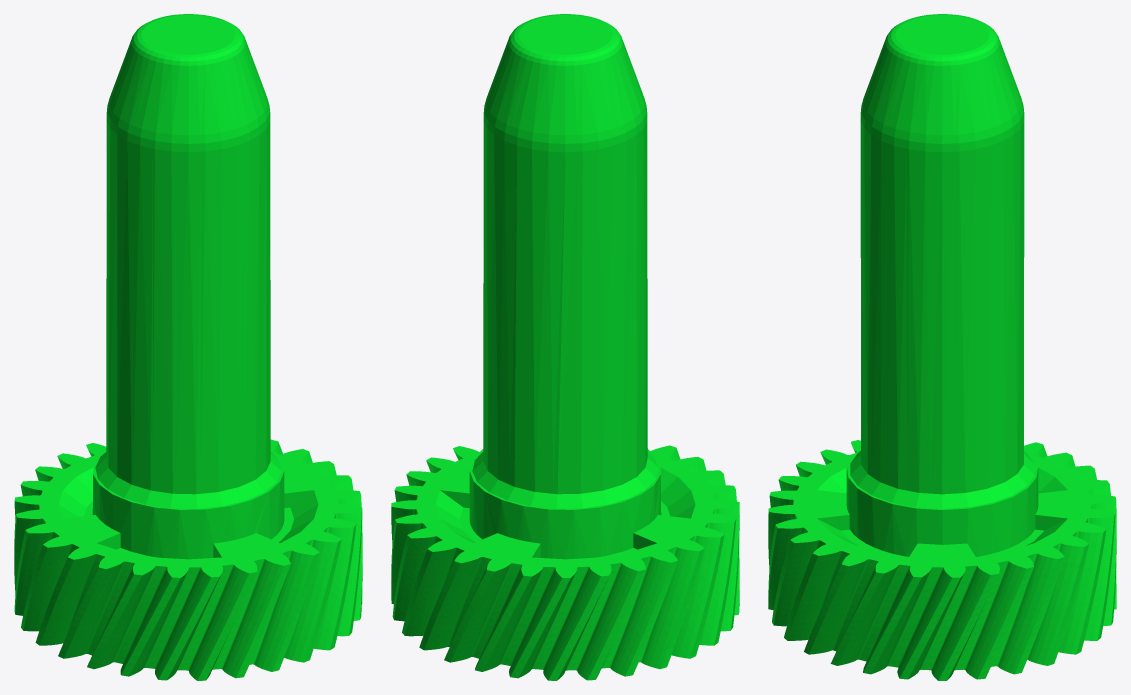
The model's file is largeGear_v5.dae.
The picture shows the model from 3 angles, left to right: view 1: azimuth 30°, elevation 25°; view 2: azimuth 150°, elevation 25°; view 3: azimuth 270°, elevation 25°; orthographic projection.
Parts seen in each view (by area): view 1: largeGear_v5; view 2: largeGear_v5; view 3: largeGear_v5.
Boxes of the visible parts, bbox=[...] form: largeGear_v5: bbox=[14, 14, 362, 680]; largeGear_v5: bbox=[391, 14, 739, 680]; largeGear_v5: bbox=[768, 14, 1116, 680].
Bounding box in the file's own units: 0.0635 × 0.0635 × 0.1152.
